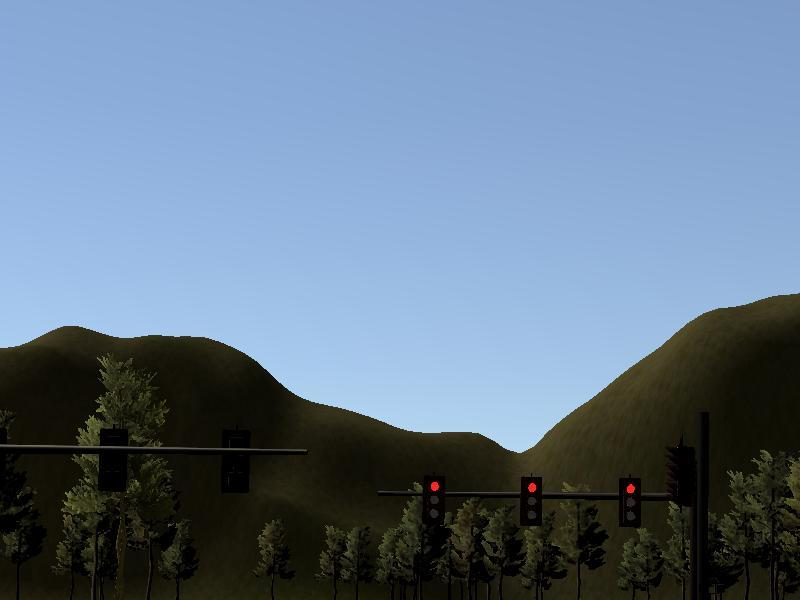Red: (620, 478, 641, 528), (427, 477, 446, 526), (522, 478, 542, 524)
